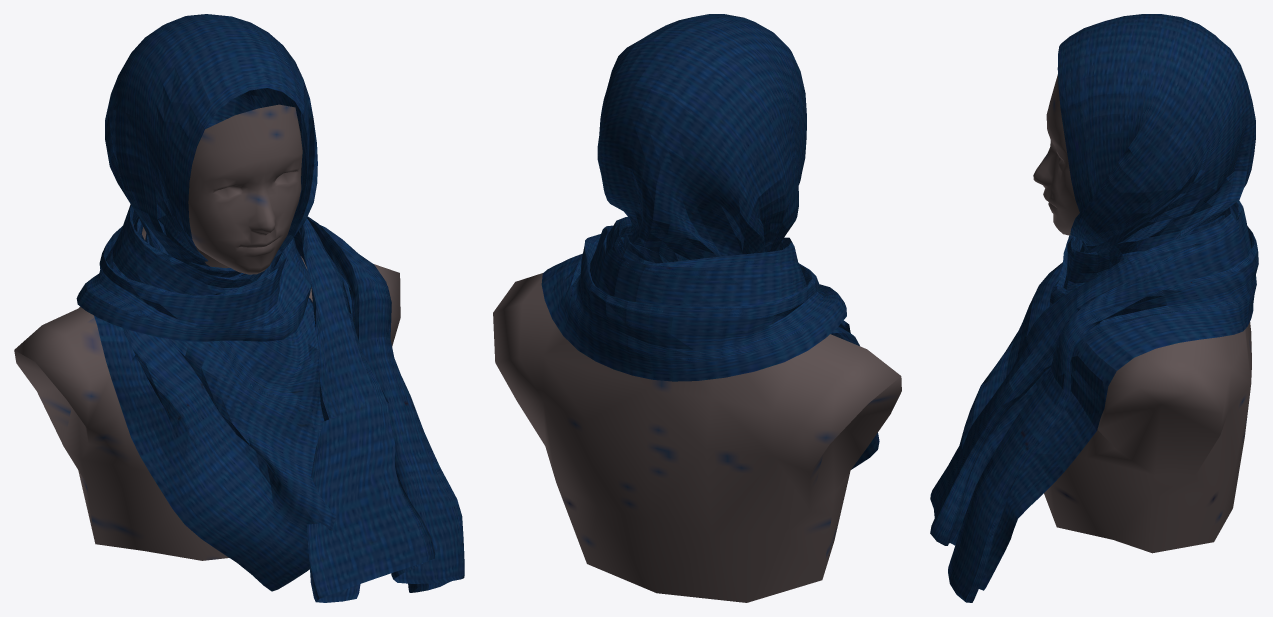
The model's file is hijab.glb.
The picture shows the model from 3 angles, left to right: view 1: azimuth 30°, elevation 25°; view 2: azimuth 150°, elevation 25°; view 3: azimuth 270°, elevation 25°; orthographic projection. The views are drawn at different scales.
Visible parts, largest first — view 1: Object_2; view 2: Object_2; view 3: Object_2.
Boxes of the visible parts, x1,y1,x2,y2 form: Object_2: (14, 14, 464, 602); Object_2: (493, 14, 901, 602); Object_2: (930, 14, 1258, 602).
Size of the model in its own units: 4.35 by 6.07 by 3.51.
Materials: 1 (1 with a texture image).
